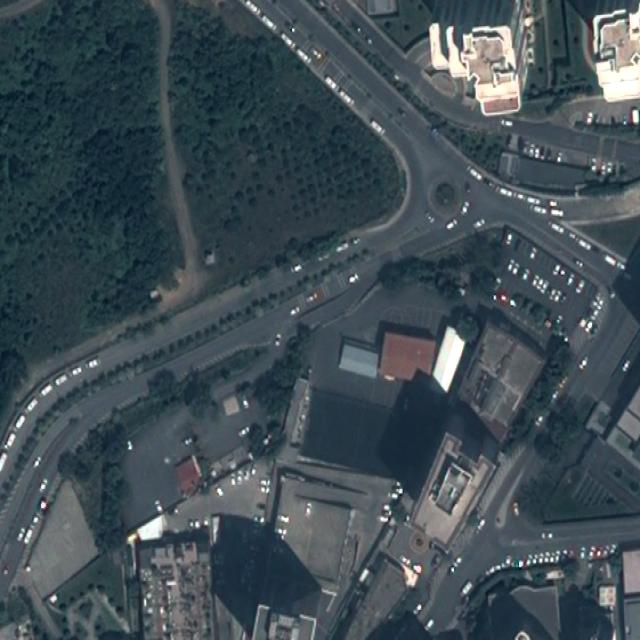Batiment: (429, 23, 521, 116), (594, 5, 640, 102), (379, 333, 436, 380), (432, 327, 465, 392), (435, 463, 471, 512), (339, 343, 379, 377), (175, 454, 201, 494), (624, 550, 640, 594), (625, 598, 640, 639)
